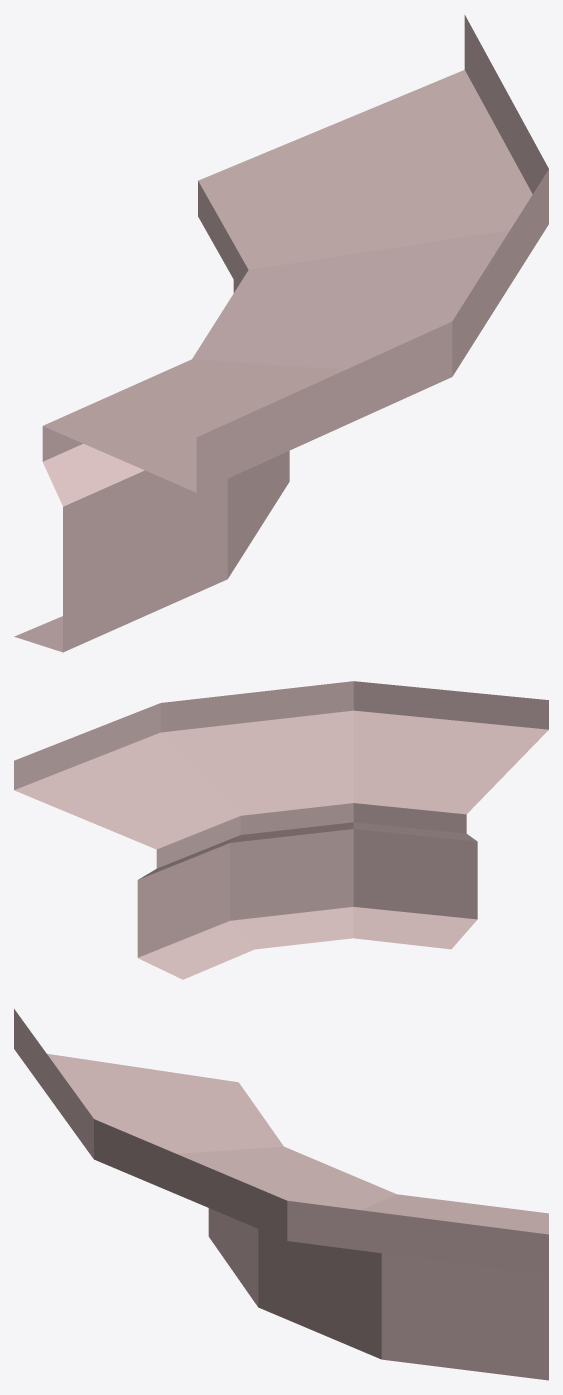
File: castle_tower_medium_endpiece_02.fbx
3 views of the same model, one above another, from view 1: azimuth 30°, elevation 25°; view 2: azimuth 150°, elevation 25°; view 3: azimuth 270°, elevation 25° (orthographic). The views are drawn at different scales.
Parts seen in each view (by area): view 1: castle_tower_medium_endpiece_02; view 2: castle_tower_medium_endpiece_02; view 3: castle_tower_medium_endpiece_02.
Boxes of the visible parts, x1,y1,x2,y2 form: castle_tower_medium_endpiece_02: (14, 15, 548, 652); castle_tower_medium_endpiece_02: (14, 681, 548, 979); castle_tower_medium_endpiece_02: (14, 1009, 548, 1380).
Bounding box in the file's own units: 8 × 4.01 × 8.
